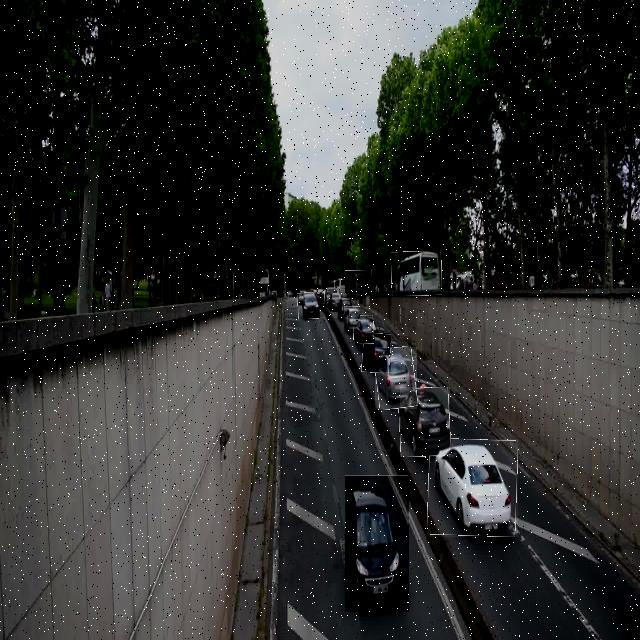Bus: (392, 252, 442, 296), (346, 270, 374, 293)
Car: (428, 439, 518, 537), (346, 475, 410, 612), (400, 387, 450, 457), (375, 347, 417, 409), (362, 333, 391, 372), (298, 292, 325, 319), (354, 315, 374, 344), (344, 306, 360, 327)
